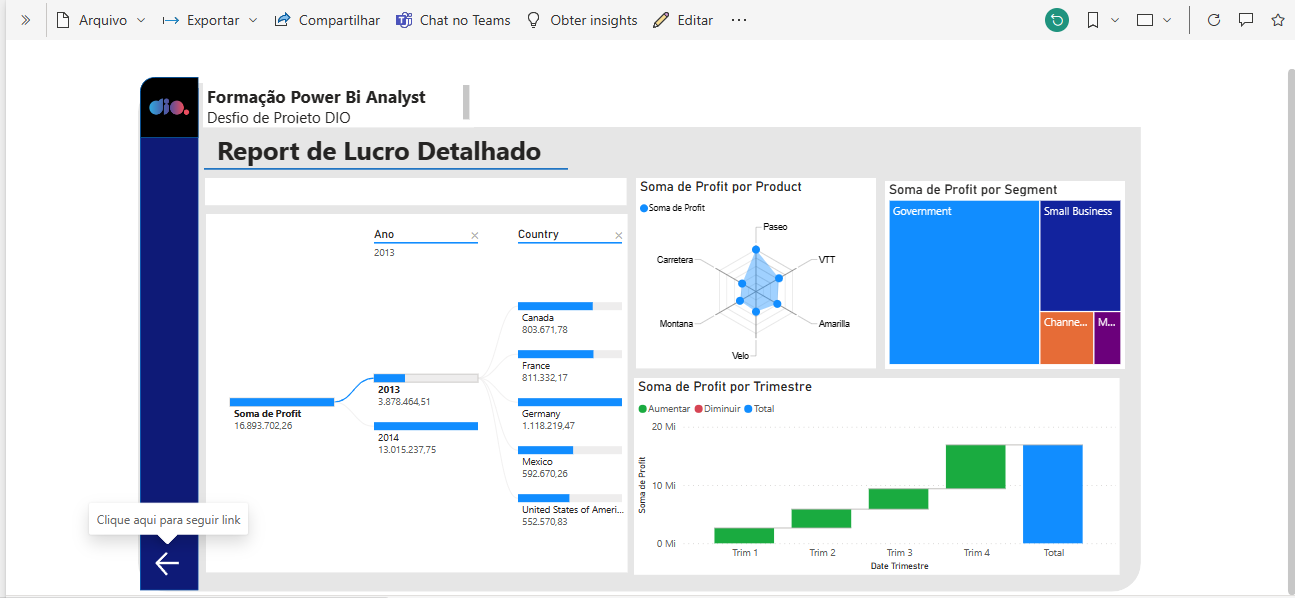

Layout of this report page (visuals, bound fields, positions):
{"tool":"powerbi","page":{"name":"Página 2","canvas":[1280,720],"ordinal":1},"visuals":[{"type":"group","id":"g1","title":"Barra lateral2","box":[4.5,72.8,1253.6,643.1],"z":0},{"type":"shape","box":[4.5,80,1253.6,635.9],"z":0,"group":"g1"},{"type":"shape","box":[87.6,170.7,455.3,34.7],"z":0,"group":"g2"},{"type":"shape","box":[85.7,77.4,1174.6,57.7],"z":1000,"group":"g3"},{"type":"shape","box":[7,86.9,73.4,628.2],"z":1000,"group":"g1"},{"type":"group","id":"g2","title":"Title Report","box":[87.6,136.6,455.9,69.8],"z":1000},{"type":"textbox","box":[98.4,136.6,445.5,52.9],"z":1000,"group":"g2"},{"type":"textbox","box":[85.7,77.4,337.7,57.7],"z":1500,"group":"g3"},{"type":"shape","box":[7,72.8,73.4,76.2],"z":2000,"group":"g1"},{"type":"group","id":"g3","title":"Cabeçalho","box":[85.7,77.4,1174.6,57.7],"z":2000},{"type":"ChicletSlicer1448559807354","fields":{"Category":["financials.Date.Variation.Hierarquia de datas.Ano"]},"box":[88.9,199.1,526.6,33.9],"z":3000},{"type":"decompositionTreeVisual","fields":{"Analyze":["Sum(financials.Profit)"],"ExplainBy":["financials.Date.Variation.Hierarquia de datas.Ano","financials.Country"]},"box":[89.4,244.1,527.1,448.4],"z":3000,"group":"g1"},{"type":"treemap","fields":{"Values":["Sum(financials.Profit)"],"Group":["financials.Segment"]},"box":[938.5,201.9,300,234.6],"z":4000},{"type":"waterfallChart","fields":{"Category":["financials.Date.Variation.Hierarquia de datas.Trimestre"],"Y":["Sum(financials.Profit)"]},"box":[625,448.7,607.1,245.6],"z":4000,"group":"g1"},{"type":"RadarChart1446119667547","fields":{"Y":["Sum(financials.Profit)"],"Category":["financials.Product"]},"box":[627,199.5,300,237.6],"z":5000,"group":"g1"},{"type":"image","title":"logo dio","box":[7,88.3,73.4,43.8],"z":6000,"group":"g1"},{"type":"actionButton","box":[22.5,661.5,40.9,39.5],"z":7000,"group":"g1"}]}

Visuals, with their boxes on the page's 1280x720 design canvas (x1, y1, x2, y2). These are canvas units, not pixel positions in the 1295x598 screenshot, which may show the page scaled, cropped or inside an application window:
"Barra lateral2" group: box(4, 73, 1258, 716)
shape: box(4, 80, 1258, 716)
shape: box(88, 171, 543, 205)
shape: box(86, 77, 1260, 135)
shape: box(7, 87, 80, 715)
"Title Report" group: box(88, 137, 544, 206)
textbox: box(98, 137, 544, 190)
textbox: box(86, 77, 423, 135)
shape: box(7, 73, 80, 149)
"Cabeçalho" group: box(86, 77, 1260, 135)
ChicletSlicer1448559807354 - financials.Date.Variation.Hierarquia de datas.Ano: box(89, 199, 616, 233)
decompositionTreeVisual - Sum(financials.Profit) x financials.Date.Variation.Hierarquia de datas.Ano: box(89, 244, 616, 692)
treemap - Sum(financials.Profit) x financials.Segment: box(938, 202, 1238, 436)
waterfallChart - financials.Date.Variation.Hierarquia de datas.Trimestre x Sum(financials.Profit): box(625, 449, 1232, 694)
RadarChart1446119667547 - Sum(financials.Profit) x financials.Product: box(627, 200, 927, 437)
"logo dio" image: box(7, 88, 80, 132)
actionButton: box(22, 662, 63, 701)
